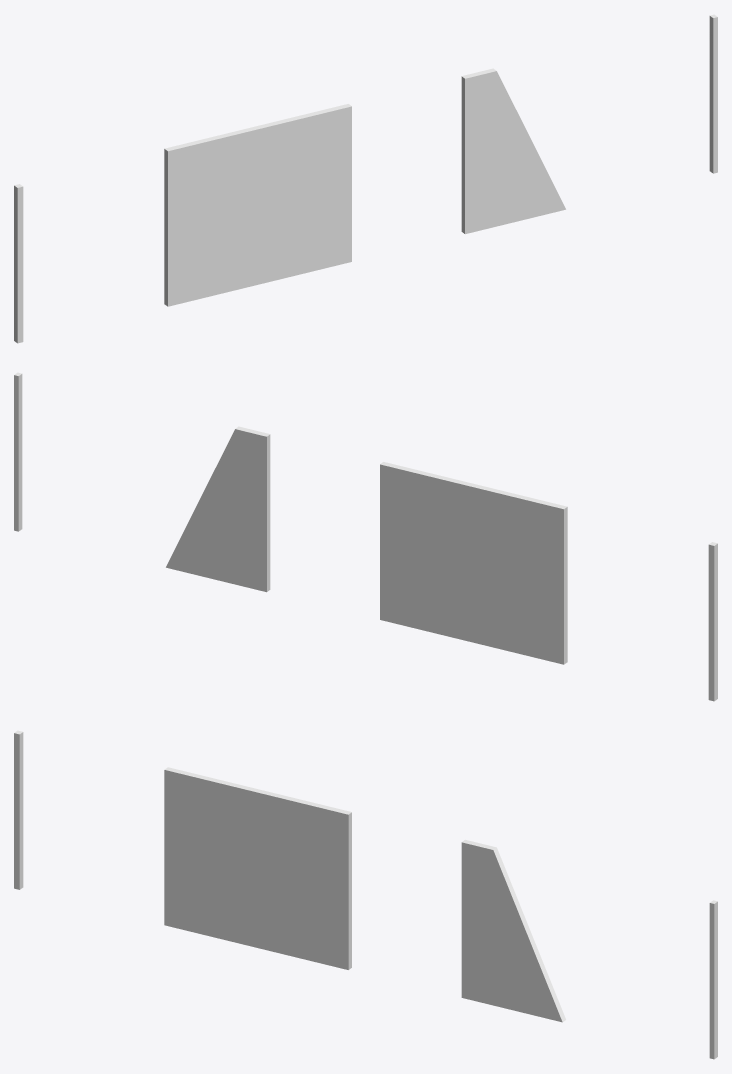
The model's file is Wall 7.fbx.
The picture shows the model from 3 angles, top to bottom: view 1: azimuth 30°, elevation 25°; view 2: azimuth 150°, elevation 25°; view 3: azimuth 330°, elevation 25°; orthographic projection.
Parts seen in each view (by area): view 1: wall 7; view 2: wall 7; view 3: wall 7.
Part boxes in pixels (box(x1,y1,x2,y2)): wall 7: box(14, 14, 717, 343); wall 7: box(14, 372, 717, 701); wall 7: box(14, 730, 717, 1059).
Size of the model in its own units: 3048 by 647 by 27.04.
Materials: 1 (1 with a texture image).
